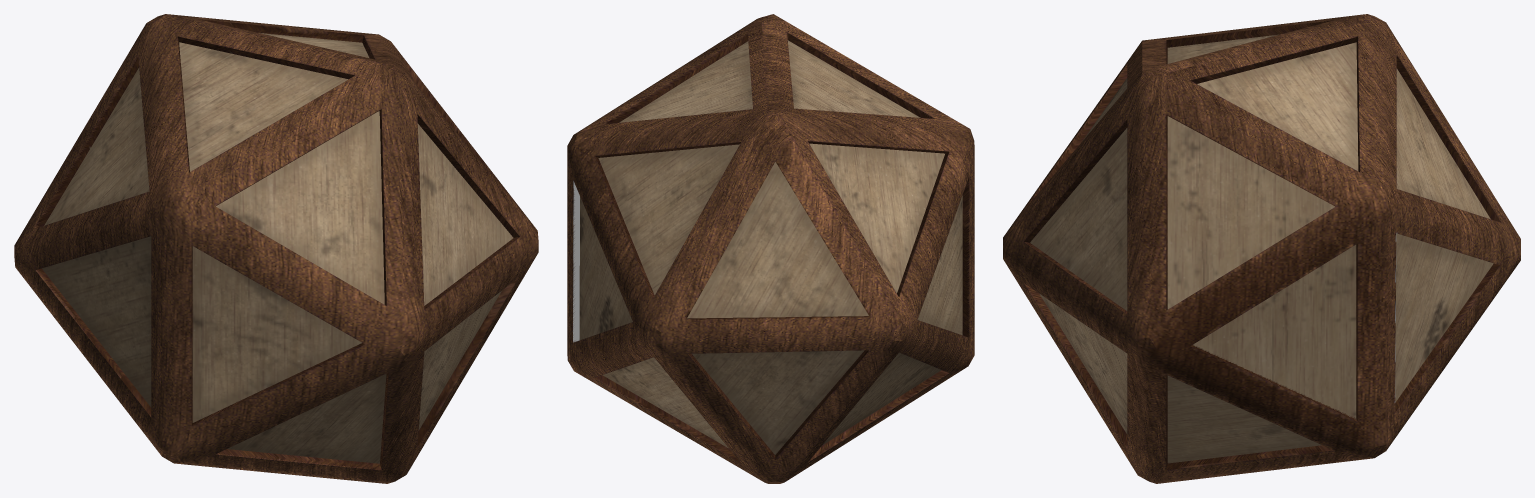
3 views of the same model, side by side, from view 1: azimuth 30°, elevation 25°; view 2: azimuth 150°, elevation 25°; view 3: azimuth 270°, elevation 25° (orthographic). The views are drawn at different scales.
Visible parts, largest first — view 1: polySurface4; view 2: polySurface4; view 3: polySurface4.
Part boxes in pixels (x1,y1,x2,y2): polySurface4: (14,14,538,483); polySurface4: (567,14,974,483); polySurface4: (1003,14,1520,483).
Size of the model in its own units: 0.0374 by 0.0356 by 0.0409.
1 material, 1 textured.
